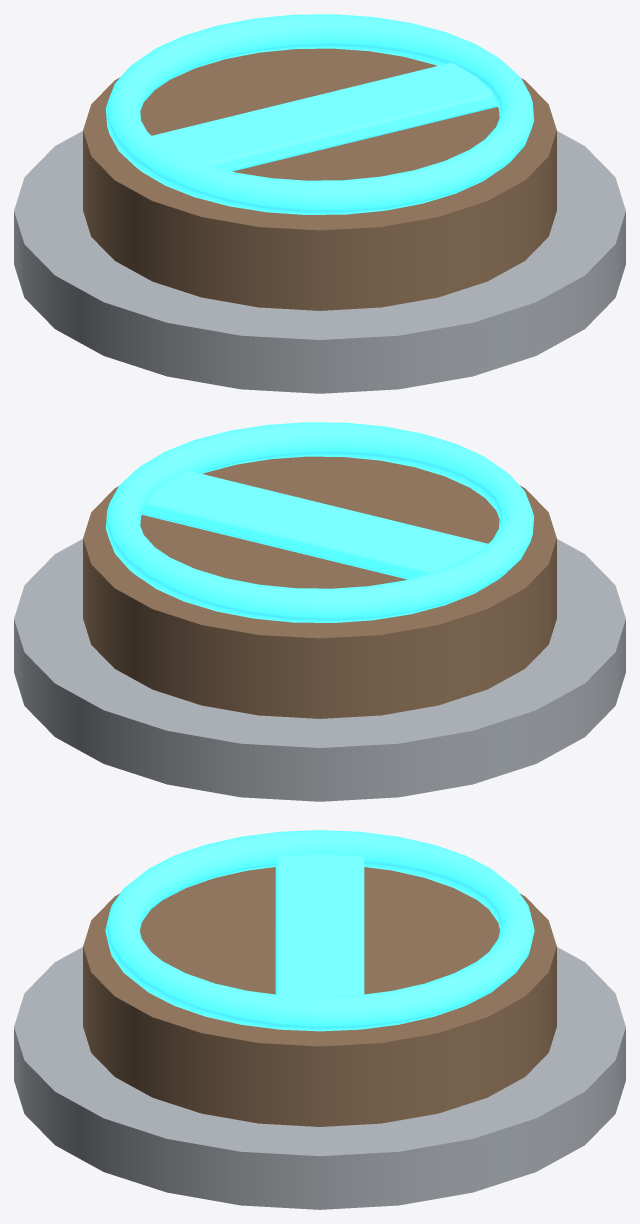
The model's file is arena-shooter-map-kit-weapon-spawn-pad-ed7f35ff__23126.glb.
The picture shows the model from 3 angles, top to bottom: view 1: azimuth 30°, elevation 25°; view 2: azimuth 150°, elevation 25°; view 3: azimuth 270°, elevation 25°; orthographic projection.
Parts seen in each view (by area): view 1: weapon-spawn-pad; view 2: weapon-spawn-pad; view 3: weapon-spawn-pad.
Boxes of the visible parts, x1=… form: weapon-spawn-pad: x1=14, y1=14, x2=625, y2=393; weapon-spawn-pad: x1=14, y1=422, x2=625, y2=801; weapon-spawn-pad: x1=14, y1=830, x2=625, y2=1209.
Bounding box in the file's own units: 1.24 × 0.37 × 1.24.
